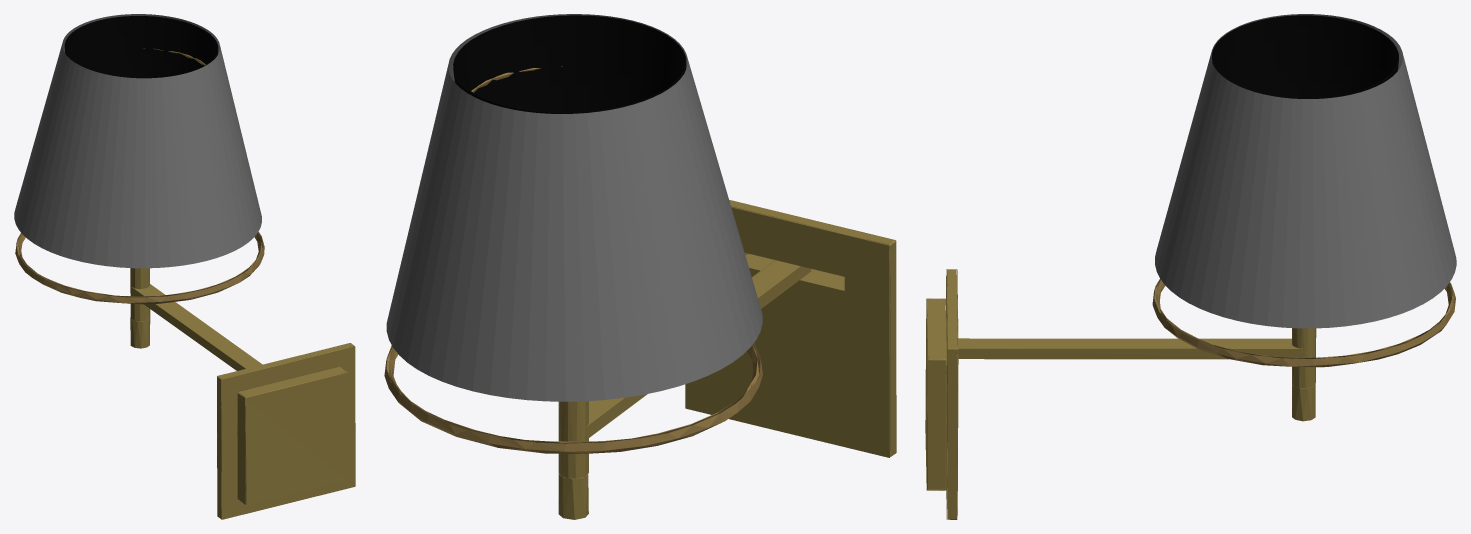
Rendered from sconce.dae.
The picture shows the model from 3 angles, left to right: view 1: azimuth 30°, elevation 25°; view 2: azimuth 150°, elevation 25°; view 3: azimuth 270°, elevation 25°; orthographic projection. The views are drawn at different scales.
Visible parts, largest first — view 1: ___DUMMY_Group01, _3_Flos_Kt; view 2: ___DUMMY_Group01, _3_Flos_Kt; view 3: ___DUMMY_Group01, _3_Flos_Kt.
Part boxes in pixels (<box>): ___DUMMY_Group01: <box>14,14,261,268</box>; _3_Flos_Kt: <box>15,48,355,519</box>; ___DUMMY_Group01: <box>386,14,762,401</box>; _3_Flos_Kt: <box>384,66,896,519</box>; ___DUMMY_Group01: <box>1155,14,1456,328</box>; _3_Flos_Kt: <box>925,269,1455,519</box>.
Size of the model in its own units: 0.9507 by 1.66 by 1.47.
